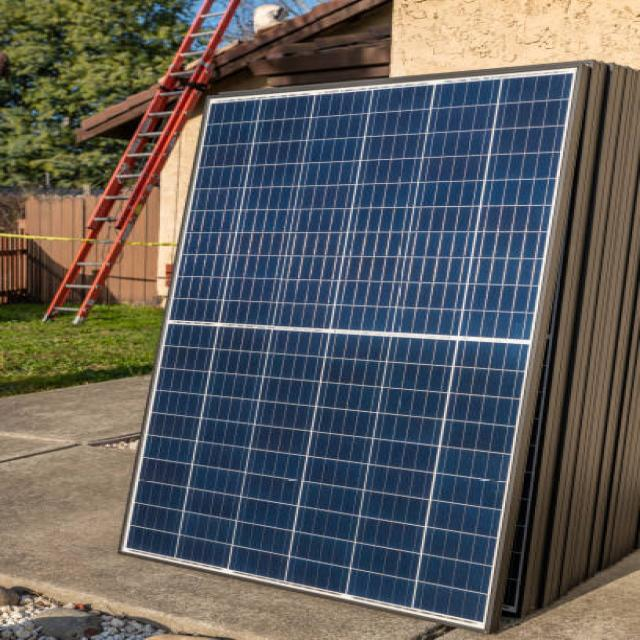no faulty: (123, 68, 575, 633)
